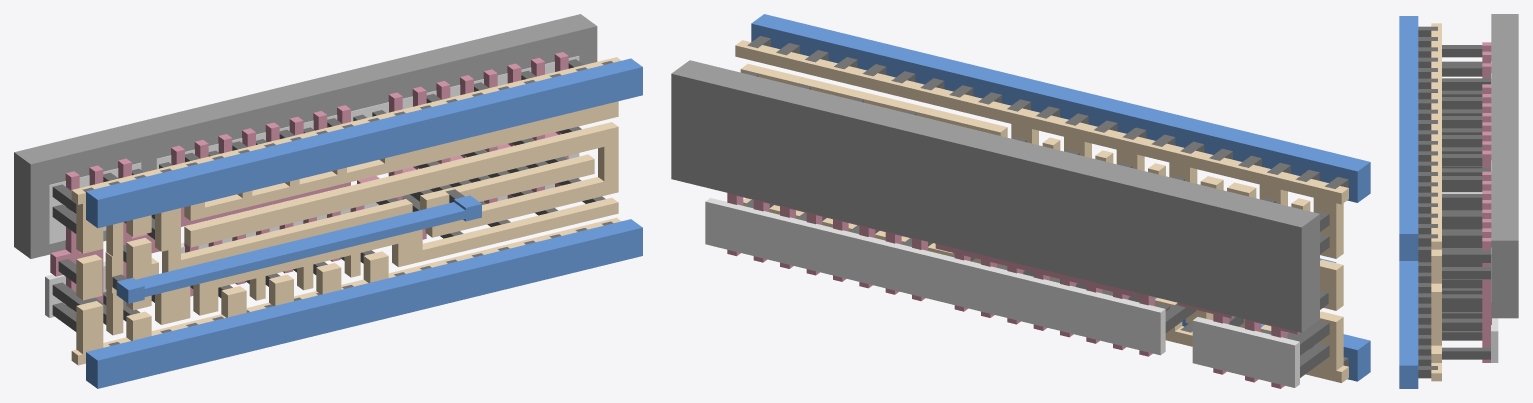
Rendered from sky130_fd_sc_hd__ebufn_8.gds.gltf.
3 renders of one model, left to right at view 1: azimuth 30°, elevation 25°; view 2: azimuth 150°, elevation 25°; view 3: azimuth 270°, elevation 25°, orthographic. The views are drawn at different scales.
Visible parts, largest first — view 1: sky130_fd_sc_hd__ebufn_8_li1, sky130_fd_sc_hd__ebufn_8_met1, sky130_fd_sc_hd__ebufn_8_nwell, sky130_fd_sc_hd__ebufn_8_poly, sky130_fd_sc_hd__ebufn_8_licon, sky130_fd_sc_hd__ebufn_8_diff, sky130_fd_sc_hd__ebufn_8_mcon; view 2: sky130_fd_sc_hd__ebufn_8_nwell, sky130_fd_sc_hd__ebufn_8_diff, sky130_fd_sc_hd__ebufn_8_li1, sky130_fd_sc_hd__ebufn_8_met1, sky130_fd_sc_hd__ebufn_8_poly, sky130_fd_sc_hd__ebufn_8_mcon, sky130_fd_sc_hd__ebufn_8_licon; view 3: sky130_fd_sc_hd__ebufn_8_licon, sky130_fd_sc_hd__ebufn_8_nwell, sky130_fd_sc_hd__ebufn_8_met1, sky130_fd_sc_hd__ebufn_8_mcon, sky130_fd_sc_hd__ebufn_8_li1, sky130_fd_sc_hd__ebufn_8_poly, sky130_fd_sc_hd__ebufn_8_diff.
Boxes of the visible parts, <box> form: sky130_fd_sc_hd__ebufn_8_li1: <box>71,57,621,365</box>; sky130_fd_sc_hd__ebufn_8_met1: <box>86,58,642,388</box>; sky130_fd_sc_hd__ebufn_8_nwell: <box>14,14,597,258</box>; sky130_fd_sc_hd__ebufn_8_poly: <box>50,52,568,312</box>; sky130_fd_sc_hd__ebufn_8_licon: <box>52,59,605,331</box>; sky130_fd_sc_hd__ebufn_8_diff: <box>45,56,579,317</box>; sky130_fd_sc_hd__ebufn_8_mcon: <box>82,61,613,345</box>; sky130_fd_sc_hd__ebufn_8_nwell: <box>671,60,1319,332</box>; sky130_fd_sc_hd__ebufn_8_diff: <box>705,198,1299,387</box>; sky130_fd_sc_hd__ebufn_8_li1: <box>735,40,1348,382</box>; sky130_fd_sc_hd__ebufn_8_met1: <box>751,14,1370,381</box>; sky130_fd_sc_hd__ebufn_8_poly: <box>727,193,1299,388</box>; sky130_fd_sc_hd__ebufn_8_mcon: <box>747,36,1348,366</box>; sky130_fd_sc_hd__ebufn_8_licon: <box>743,72,1329,377</box>; sky130_fd_sc_hd__ebufn_8_licon: <box>1442,45,1490,359</box>; sky130_fd_sc_hd__ebufn_8_nwell: <box>1491,14,1518,318</box>; sky130_fd_sc_hd__ebufn_8_met1: <box>1399,16,1418,388</box>; sky130_fd_sc_hd__ebufn_8_mcon: <box>1418,26,1437,378</box>; sky130_fd_sc_hd__ebufn_8_li1: <box>1431,23,1441,381</box>; sky130_fd_sc_hd__ebufn_8_poly: <box>1482,42,1491,362</box>; sky130_fd_sc_hd__ebufn_8_diff: <box>1491,61,1498,362</box>.
Size of the model in its own units: 10.04 by 3.2 by 2.24.
